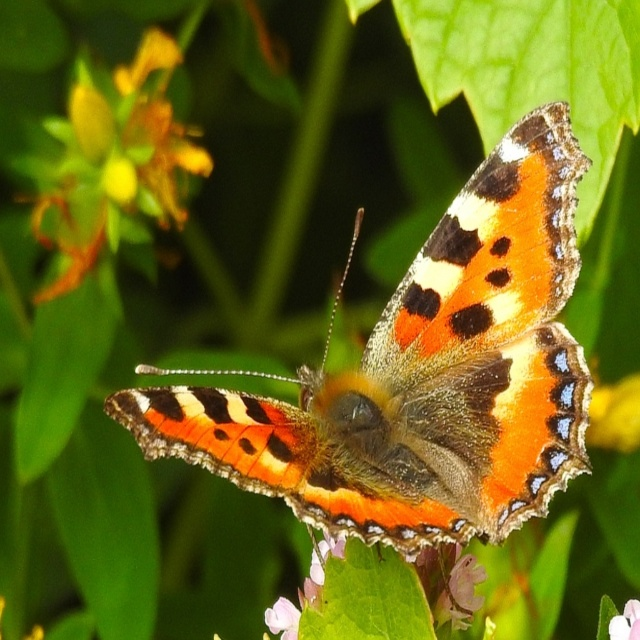Butterfly: (123, 80, 575, 577)
